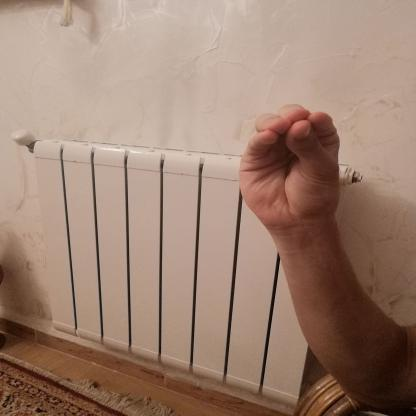HA: (226, 95, 357, 239)
